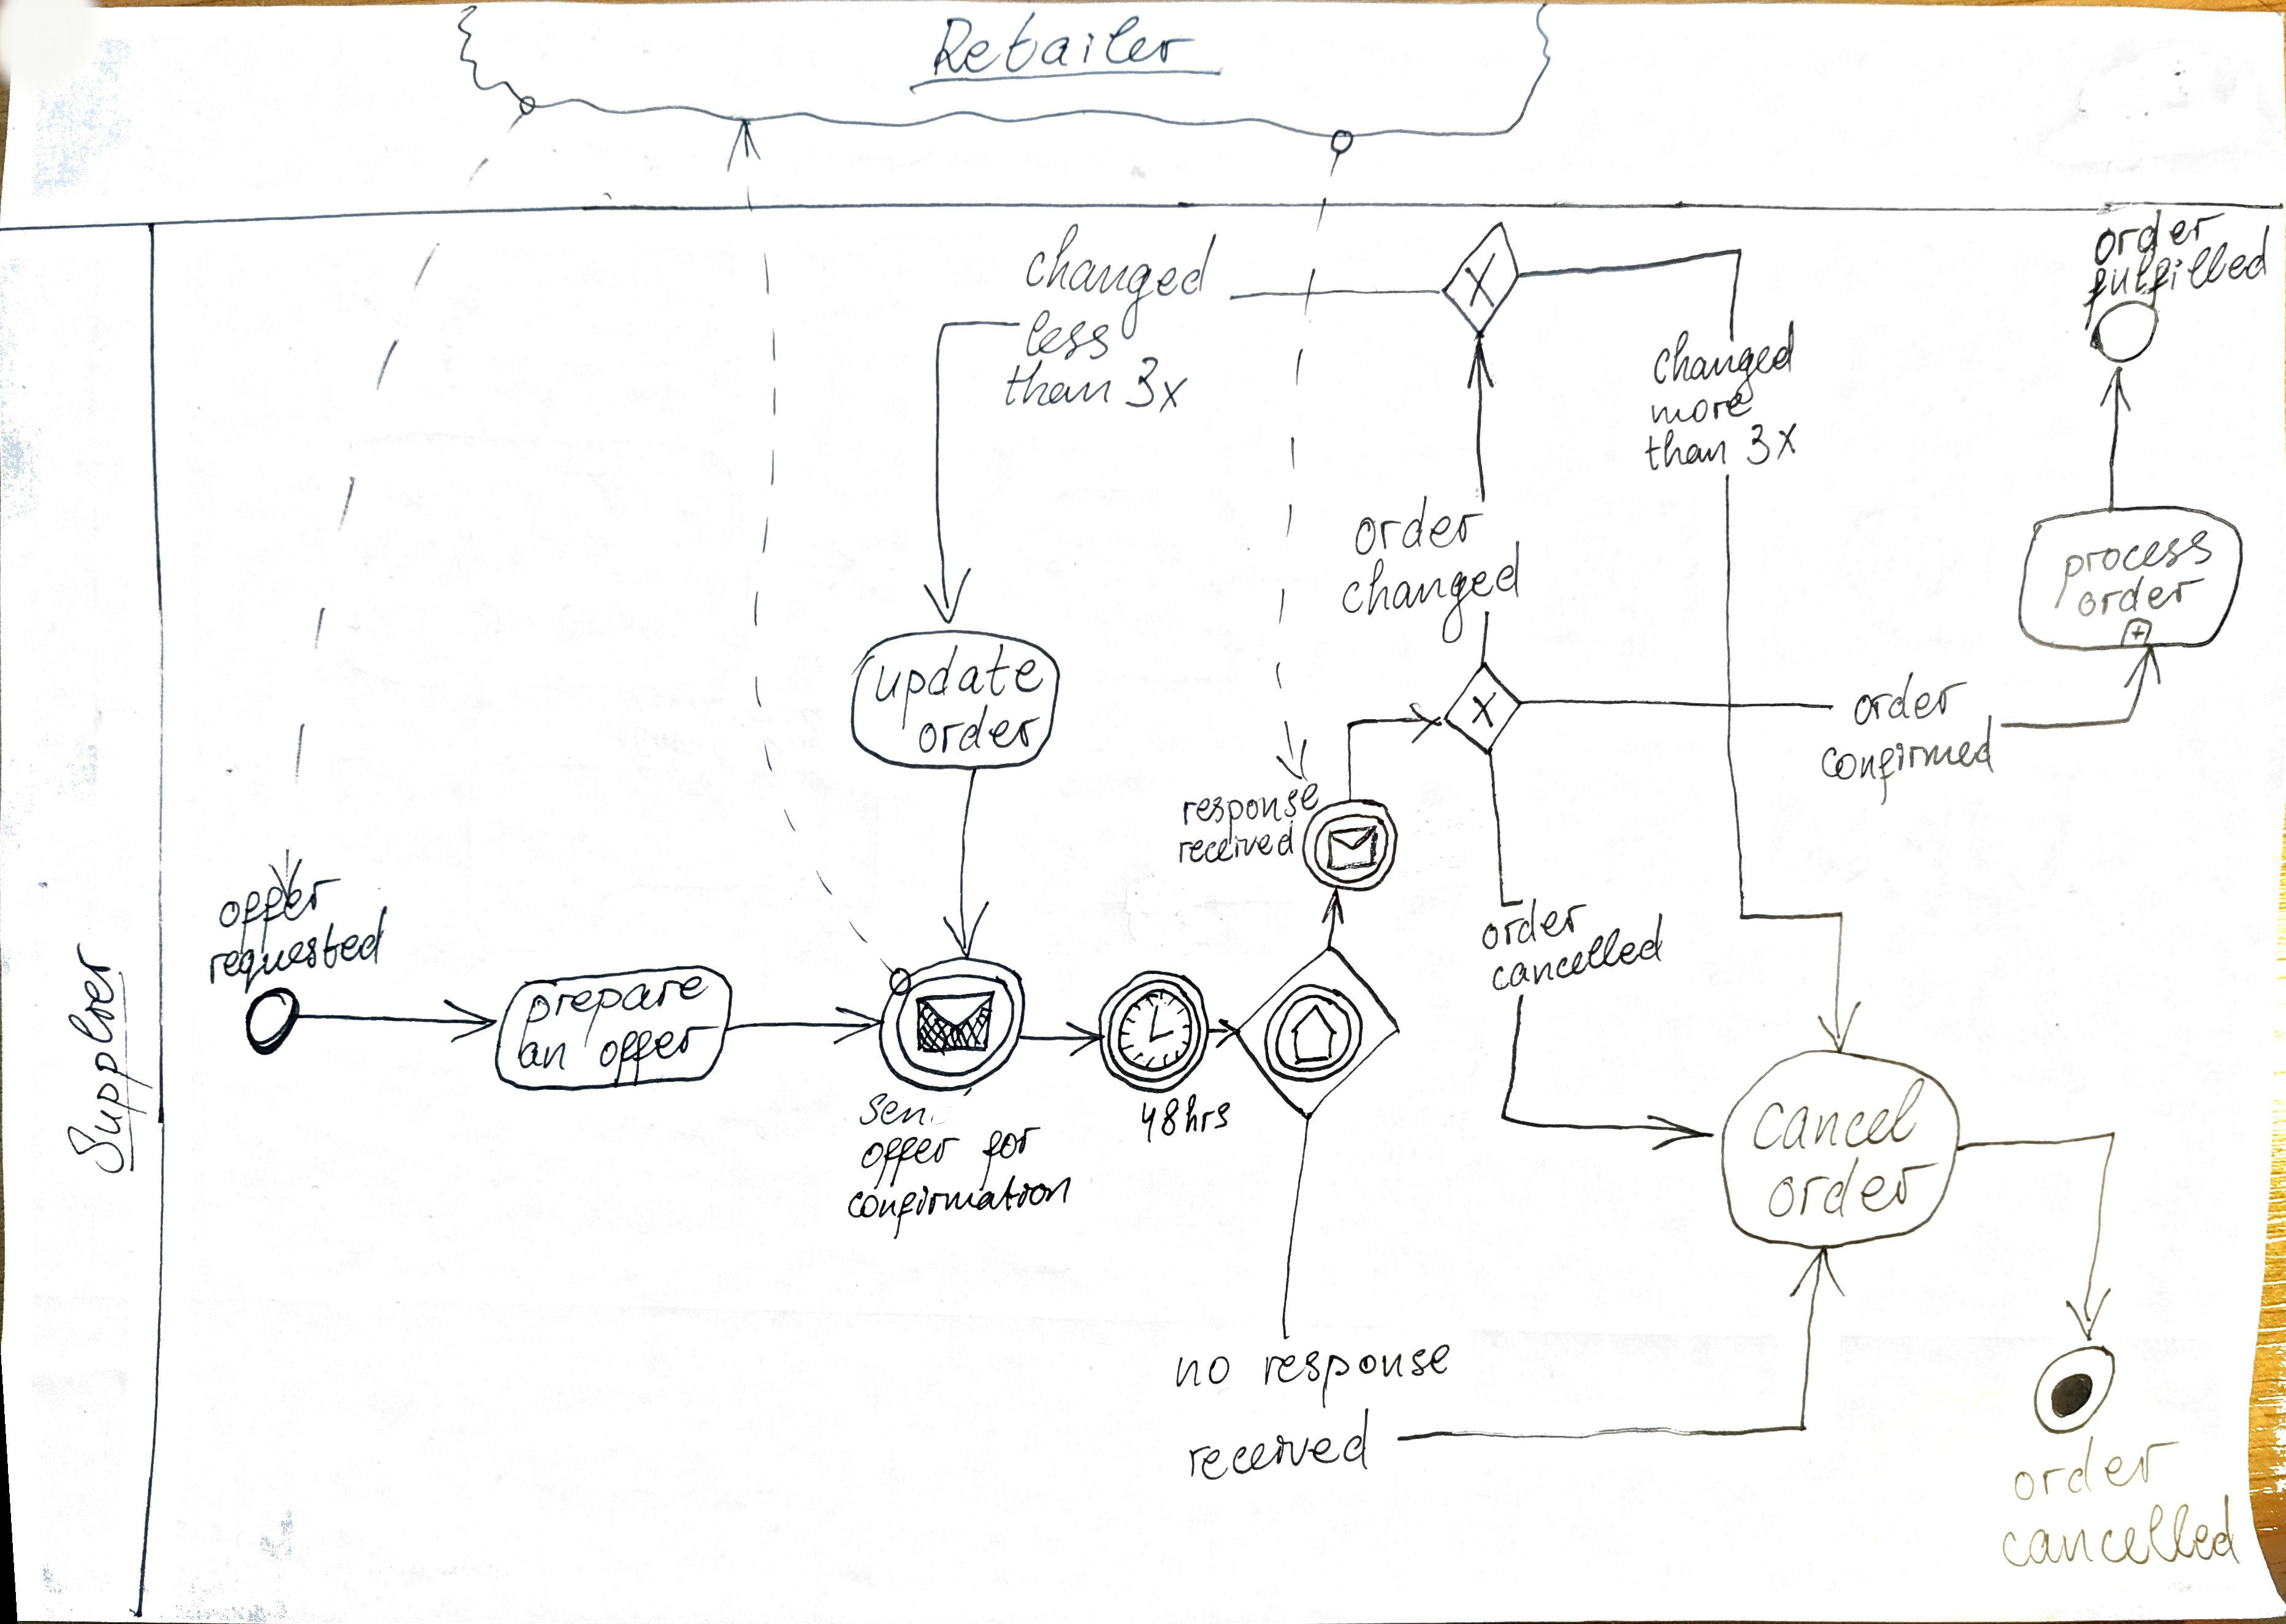3x: (1128, 360, 1188, 415), (1747, 417, 1806, 466)
48: (1142, 1098, 1183, 1144)
Retailer: (926, 11, 1211, 91)
Sen: (852, 1084, 938, 1132)
Supplier: (60, 944, 128, 1169)
an: (515, 1033, 580, 1076)
cancel: (1752, 1074, 1933, 1156)
cancelled: (2008, 1492, 2253, 1570), (1485, 917, 1671, 998)
changed: (1320, 533, 1516, 629), (1014, 221, 1219, 308), (1646, 329, 1798, 388)
confirmation: (845, 1171, 1074, 1227)
confirmed: (1824, 710, 2008, 794)
for: (979, 1120, 1044, 1167)
fulfilled: (2086, 236, 2277, 330)
hrs: (1174, 1091, 1235, 1137)
less: (1012, 308, 1121, 360)
more: (1646, 392, 1750, 422)
no: (1165, 1348, 1237, 1392)
offer: (211, 859, 329, 937), (592, 1019, 712, 1077), (857, 1130, 958, 1167)
order: (2000, 1425, 2174, 1503), (1332, 497, 1471, 561), (1768, 1158, 1928, 1213), (1850, 666, 1977, 729), (914, 703, 1042, 761), (2089, 200, 2217, 258), (1476, 896, 1592, 956), (2065, 575, 2207, 613)
prepare: (531, 972, 710, 1032)
process: (2059, 517, 2221, 587)
received: (1177, 1413, 1378, 1480), (1174, 824, 1302, 866)
requested: (195, 909, 388, 990)
response: (1255, 1343, 1453, 1408), (1176, 784, 1320, 830)
than: (998, 360, 1123, 415), (1645, 424, 1741, 475)
update: (868, 642, 1047, 715)
